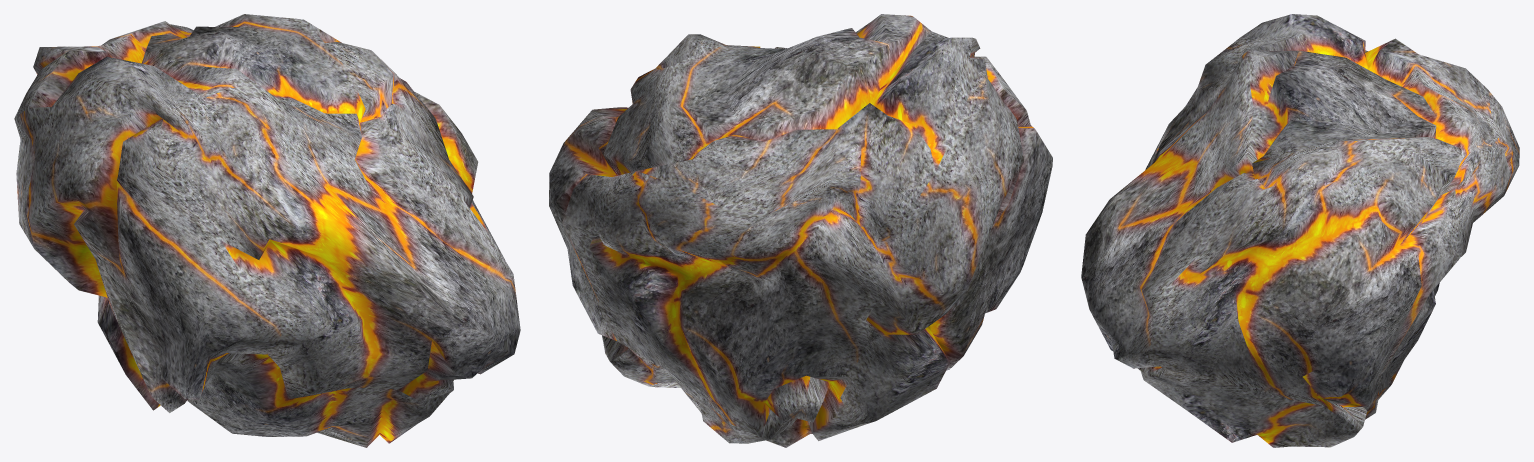
File: Asteroid_09_L1.FBX
The picture shows the model from 3 angles, left to right: view 1: azimuth 30°, elevation 25°; view 2: azimuth 150°, elevation 25°; view 3: azimuth 270°, elevation 25°; orthographic projection. The views are drawn at different scales.
Visible parts, largest first — view 1: Asteroid; view 2: Asteroid; view 3: Asteroid.
Part boxes in pixels (x1,y1,x2,y2): Asteroid: [14, 14, 520, 447]; Asteroid: [549, 14, 1052, 447]; Asteroid: [1081, 14, 1519, 447].
Size of the model in its own units: 2.82 by 2.65 by 3.03.
